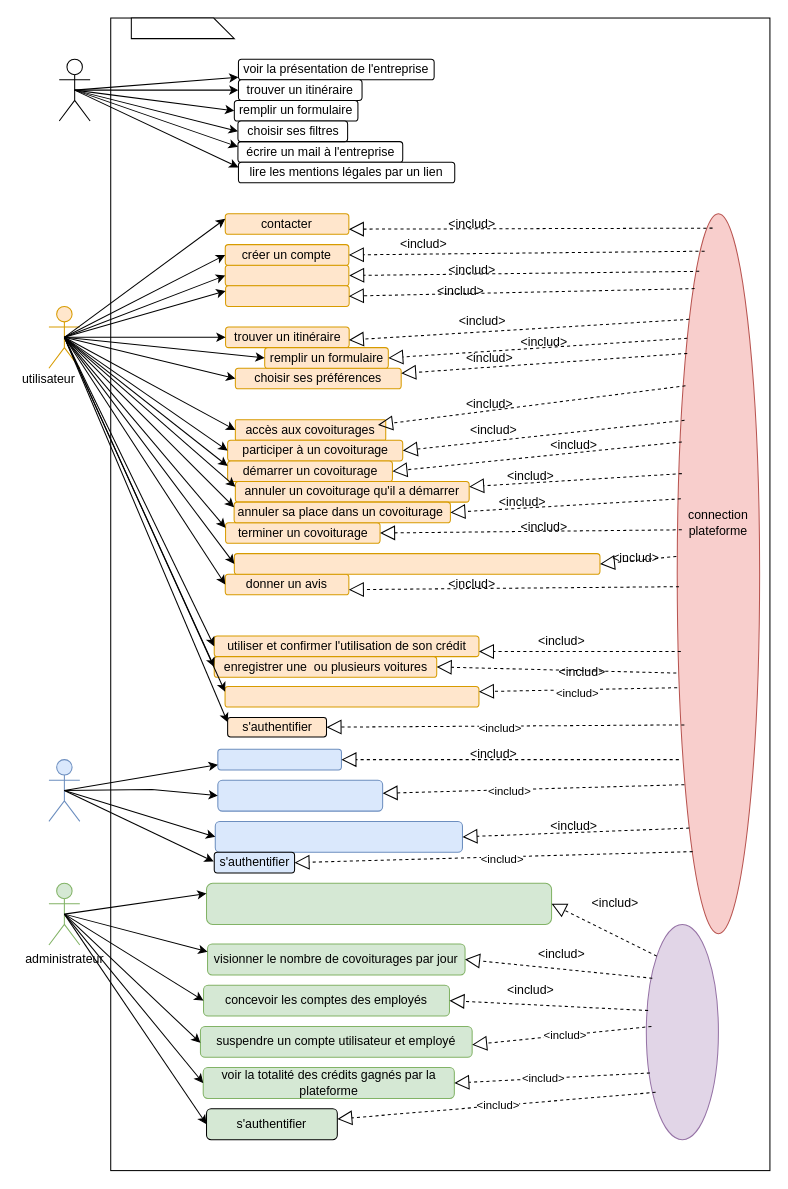
Some shapes in this 788 by 1189 pixel diagram are drawn without their labels. The shapes that lost their labels are listed below. From the top down, each one's box as (x1, y1, x2, y2) in pixels, then its label:
(130, 17, 234, 39): application
(58, 58, 90, 121): visiteur
(224, 264, 349, 286): connexion
(225, 285, 349, 306): déconnexion
(233, 553, 600, 574): mettre une note au chauffeur du covoiturage auquel il participe
(224, 685, 479, 707): choisir son rôle chauffeur/passager ou les 2
(217, 748, 341, 770): gérer les mails
(48, 759, 80, 821): employé
(217, 779, 383, 811): valider ou invalider un avis
(214, 820, 462, 852): médiation si un covoiturage s'est mal passé
(205, 882, 552, 924): visionner le nombre de crédits gagnés en fonction des jours
(645, 923, 718, 1140): connection en amont
